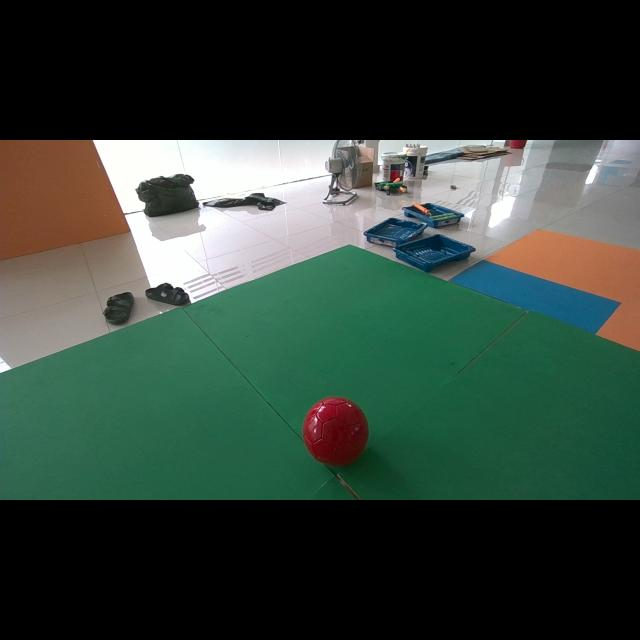R: (302, 396, 369, 466)
